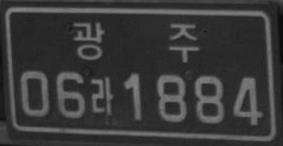0: (19, 68, 50, 117)
1: (120, 71, 149, 120)
4: (232, 76, 264, 125)
6: (55, 70, 86, 118)
8: (193, 74, 225, 124), (156, 73, 187, 123)
광주_D: (73, 22, 200, 61)
라: (90, 75, 113, 115)
